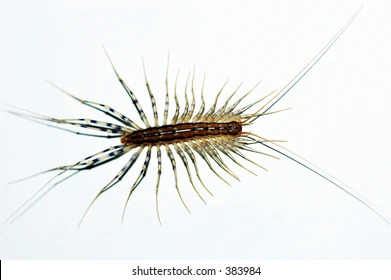centipede: (14, 43, 353, 233)
